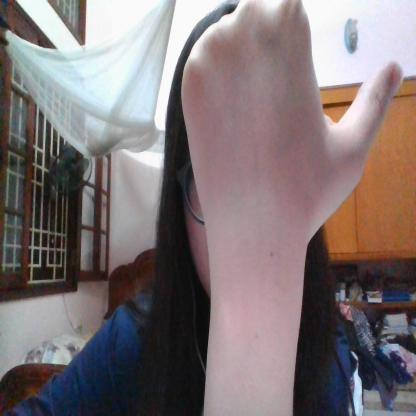left: (180, 1, 404, 242)
